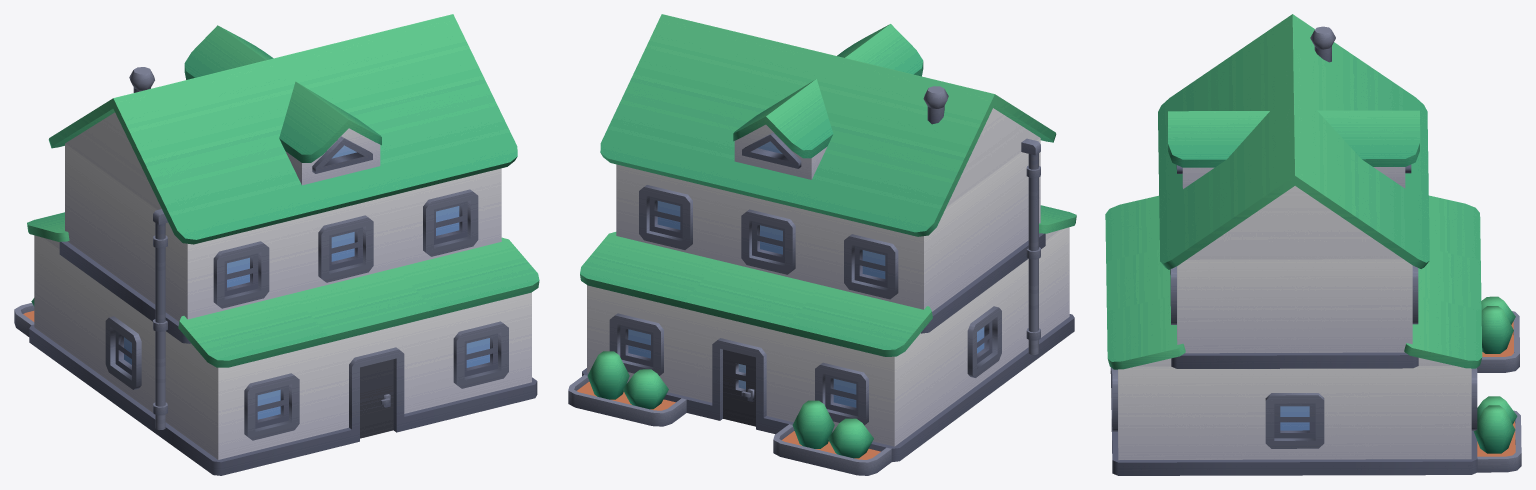
The model's file is building-type-t.039_lev3.glb.
The picture shows the model from 3 angles, left to right: view 1: azimuth 30°, elevation 25°; view 2: azimuth 150°, elevation 25°; view 3: azimuth 270°, elevation 25°; orthographic projection. The views are drawn at different scales.
Parts seen in each view (by area): view 1: building-type-t.039_lev3; view 2: building-type-t.039_lev3; view 3: building-type-t.039_lev3.
Boxes of the visible parts, bbox=[...] form: building-type-t.039_lev3: bbox=[14, 14, 539, 475]; building-type-t.039_lev3: bbox=[568, 14, 1076, 475]; building-type-t.039_lev3: bbox=[1105, 14, 1521, 475].
Size of the model in its own units: 6.57 by 5.78 by 7.07.
Materials: 1 (1 with a texture image).
